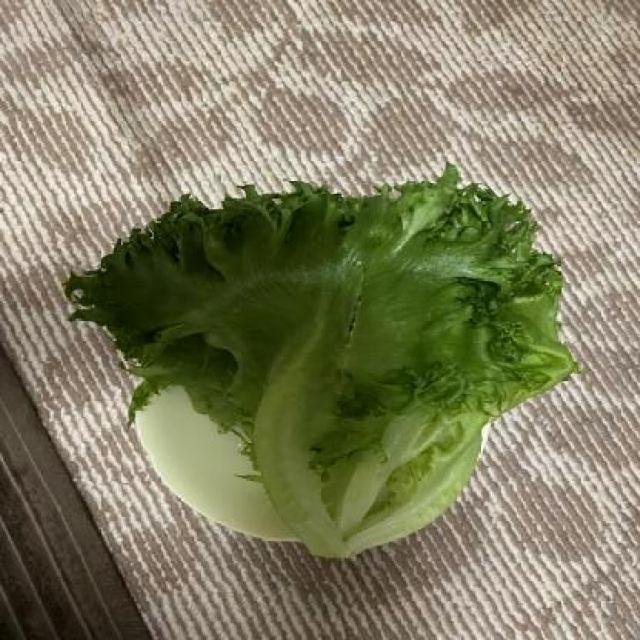Lettuce: (72, 165, 576, 560)
